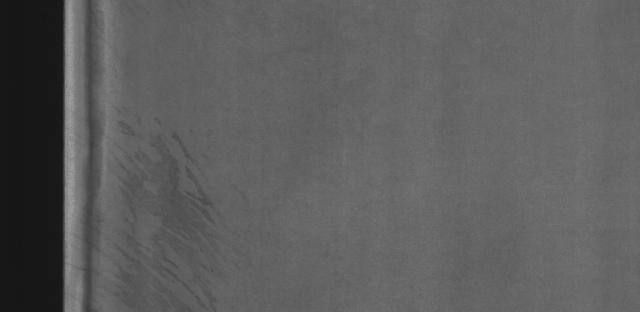water_spot: (74, 1, 232, 312)
